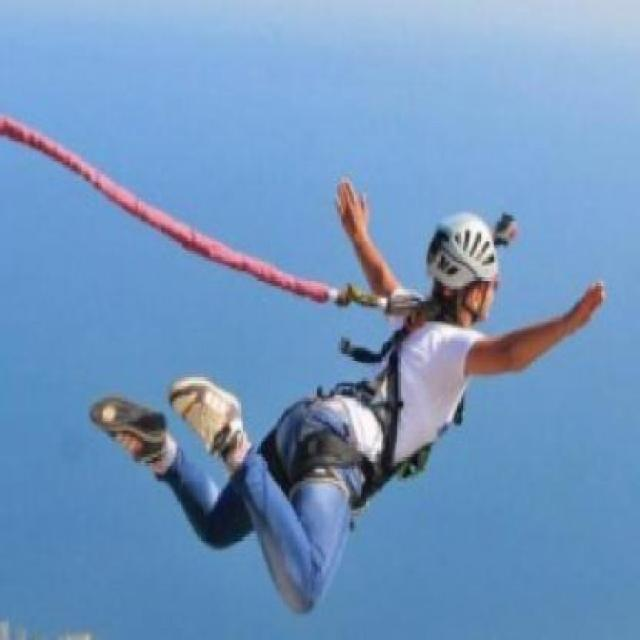fall: (86, 167, 612, 624)
